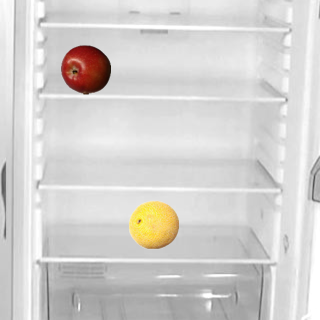Apple Braeburn: (60, 44, 110, 94)
Cantaloupe 1: (128, 199, 178, 249)
